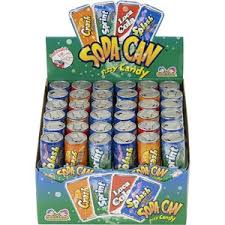can: (39, 80, 187, 168)
